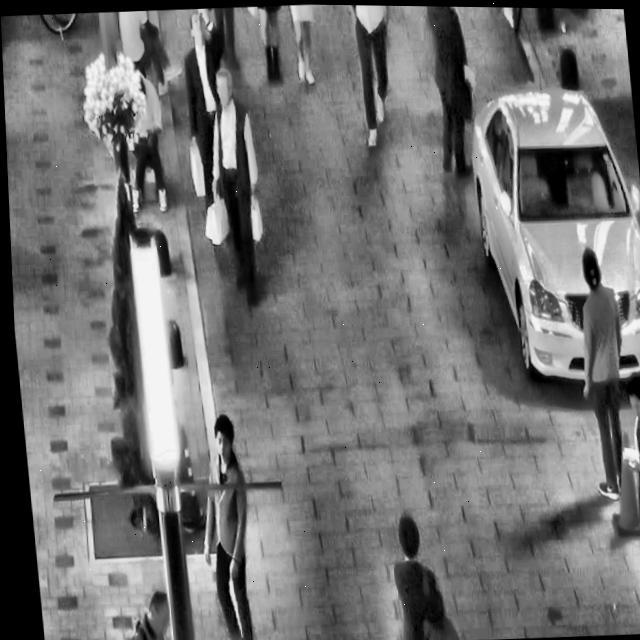light_vehicle: (456, 62, 640, 393)
